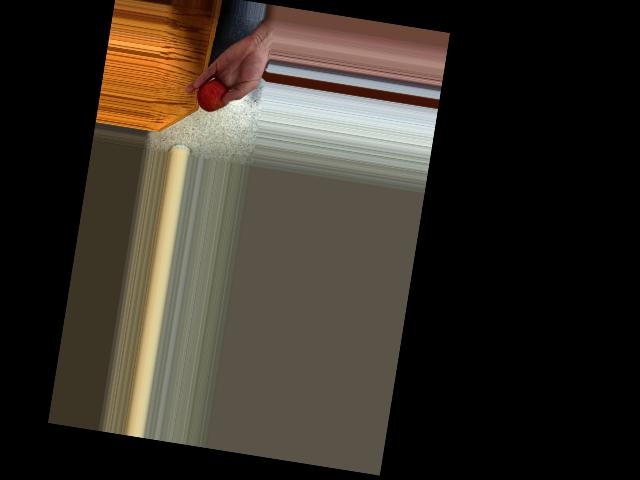apple: (195, 73, 234, 115)
